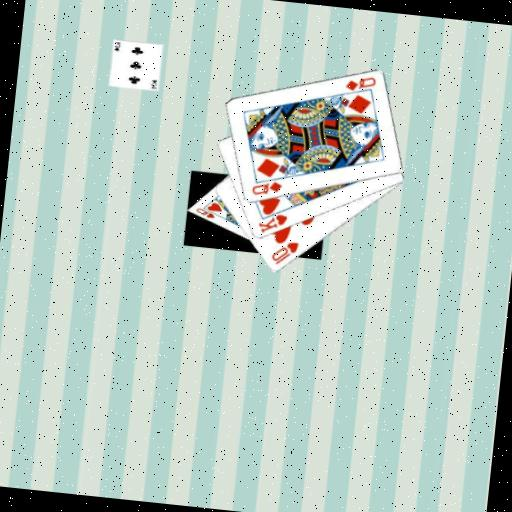10H: (268, 237, 301, 269)
KH: (254, 209, 289, 237)
QD: (248, 176, 284, 199), (342, 72, 378, 95)
